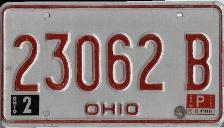0: (74, 32, 101, 93)
2: (11, 32, 42, 92), (137, 32, 167, 93)
3: (41, 31, 75, 94)
6: (106, 31, 133, 92)
8: (184, 32, 213, 92)
B: (184, 32, 213, 93)
